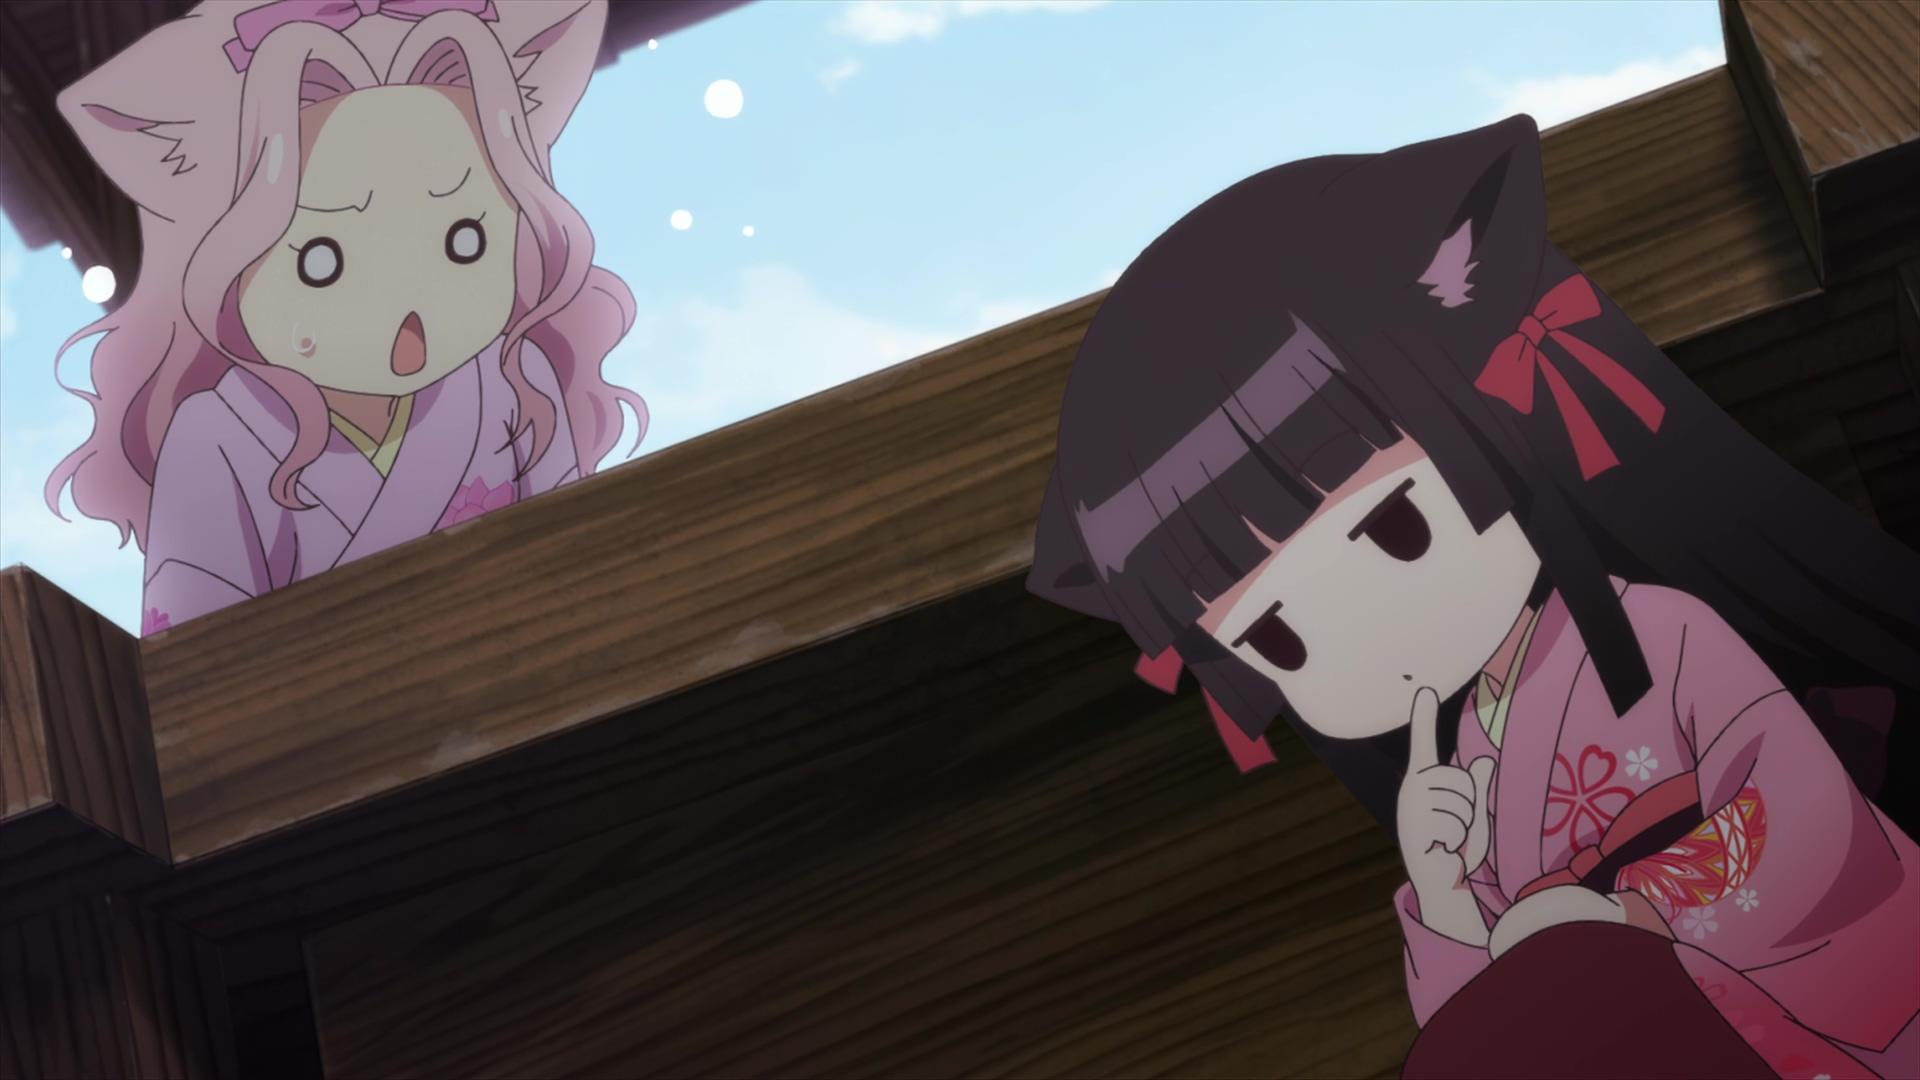樱: (1026, 113, 1920, 1080)
莲: (44, 1, 649, 641)
